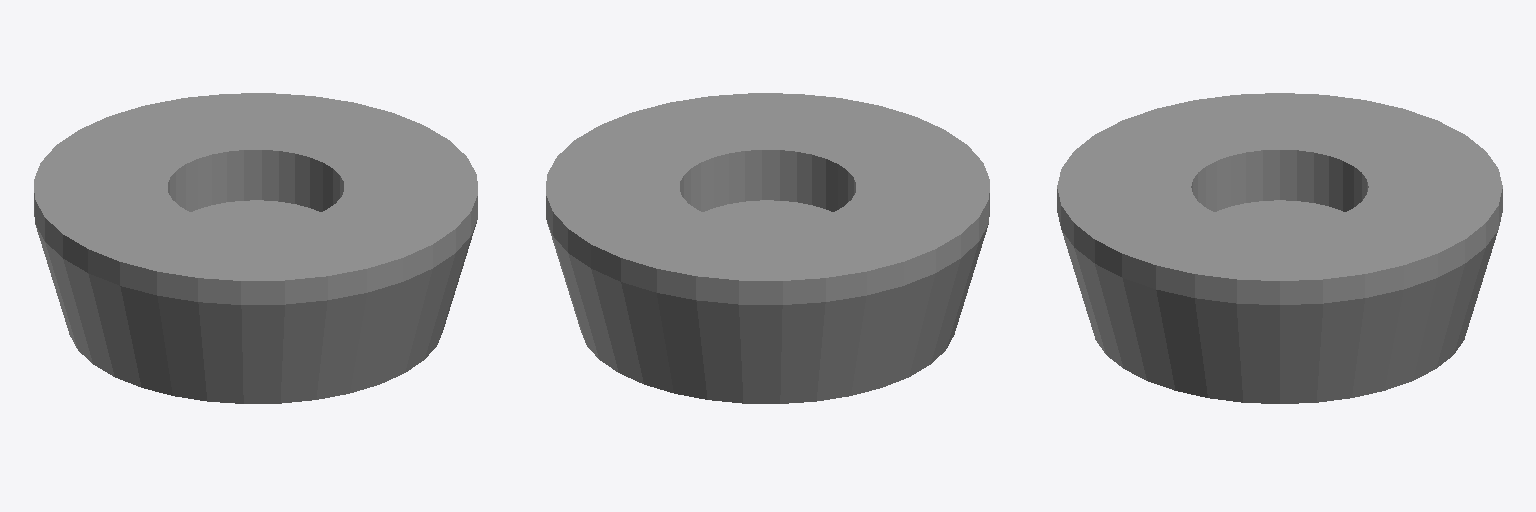
The model's file is HellWaterfallCircleRotateStep.obj.
3 views of the same model, side by side, from view 1: azimuth 30°, elevation 25°; view 2: azimuth 150°, elevation 25°; view 3: azimuth 270°, elevation 25° (orthographic).
Visible parts, largest first — view 1: Circle, Circle.001_Circle.003; view 2: Circle, Circle.001_Circle.003; view 3: Circle, Circle.001_Circle.003.
Part boxes in pixels (x1,y1,x2,y2): Circle: (34,93,477,403); Circle.001_Circle.003: (191,200,320,223); Circle: (546,93,989,403); Circle.001_Circle.003: (703,200,832,223); Circle: (1057,93,1502,403); Circle.001_Circle.003: (1215,200,1344,224).
Bounding box in the file's own units: 3051 × 1041 × 3051.